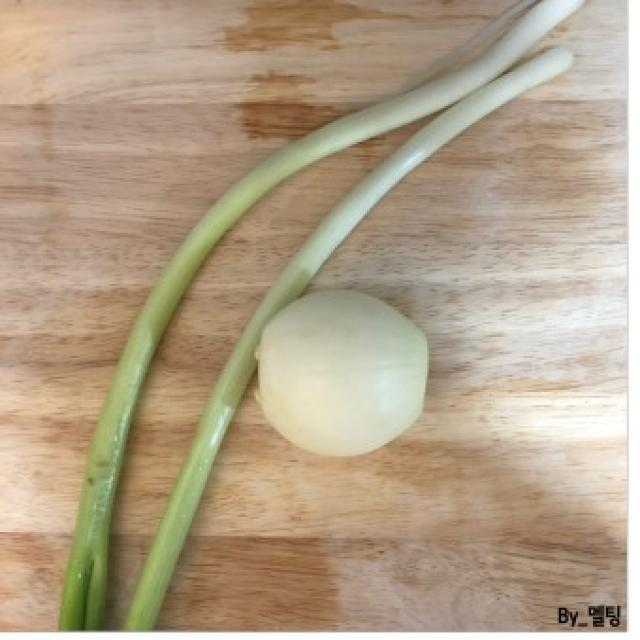Onion: (62, 2, 589, 640), (251, 293, 426, 457)
